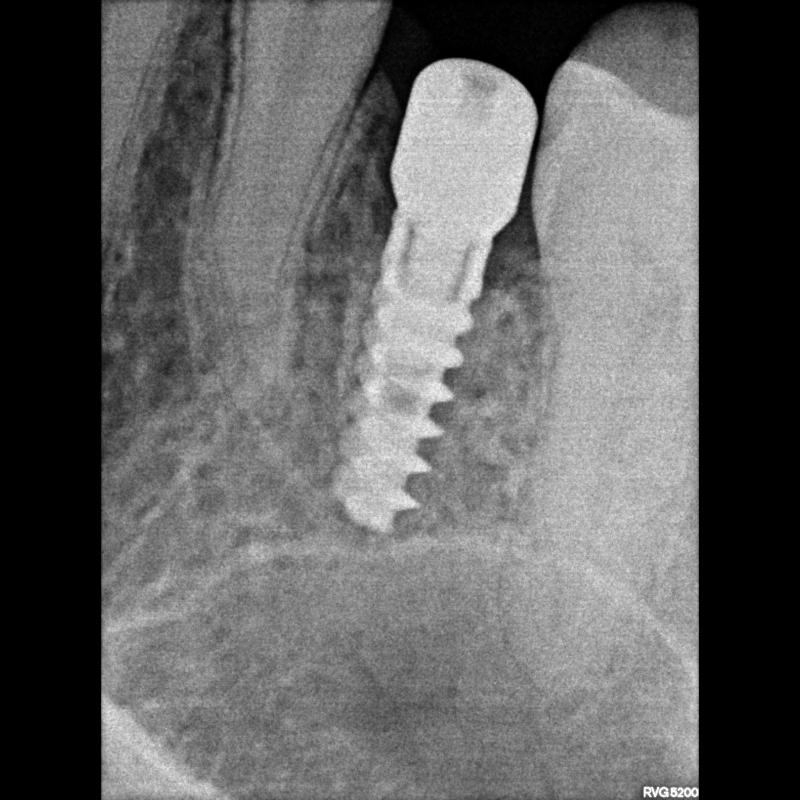ADIN: (324, 214, 512, 540)
